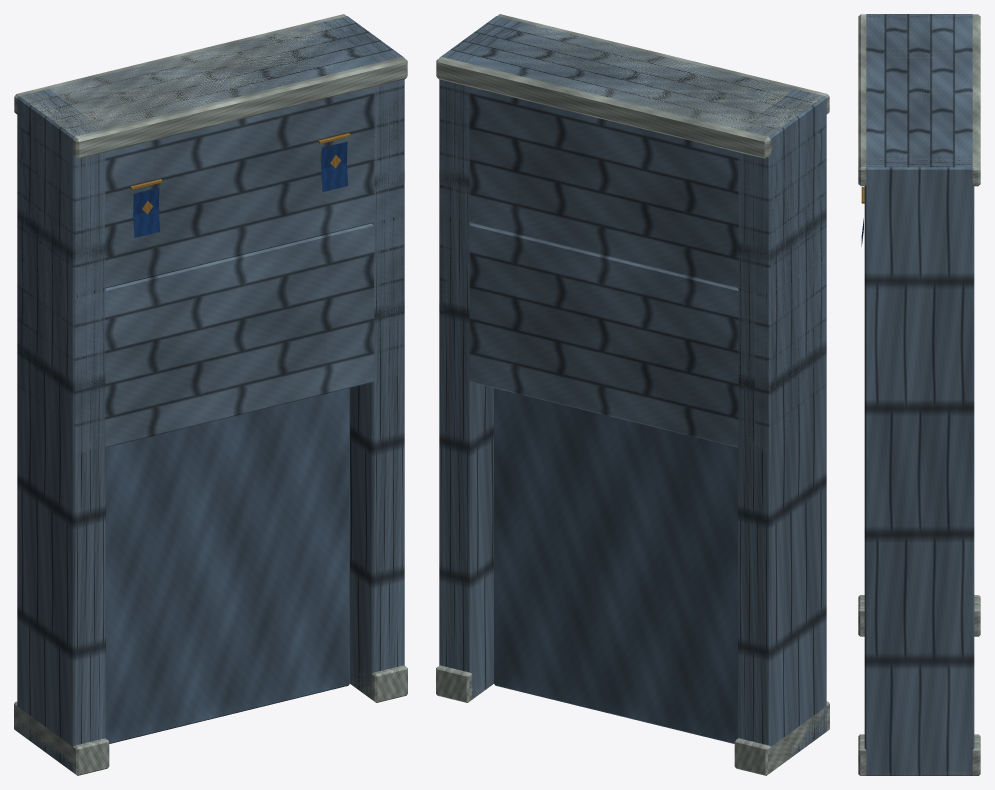
Rendered from gate_frame.glb.
The picture shows the model from 3 angles, left to right: view 1: azimuth 30°, elevation 25°; view 2: azimuth 150°, elevation 25°; view 3: azimuth 270°, elevation 25°; orthographic projection. The views are drawn at different scales.
Parts seen in each view (by area): view 1: Architecture, GateDoor, Banners; view 2: Architecture, GateDoor; view 3: Architecture.
Part boxes in pixels (x1=…): Architecture: x1=14, y1=14, x2=407, y2=775; GateDoor: x1=106, y1=388, x2=349, y2=743; Banners: x1=133, y1=141, x2=347, y2=237; Architecture: x1=436, y1=14, x2=829, y2=775; GateDoor: x1=494, y1=388, x2=737, y2=743; Architecture: x1=858, y1=14, x2=980, y2=775.
Bounding box in the file's own units: 12 × 22 × 4.
Materials: 1 (1 with a texture image).
